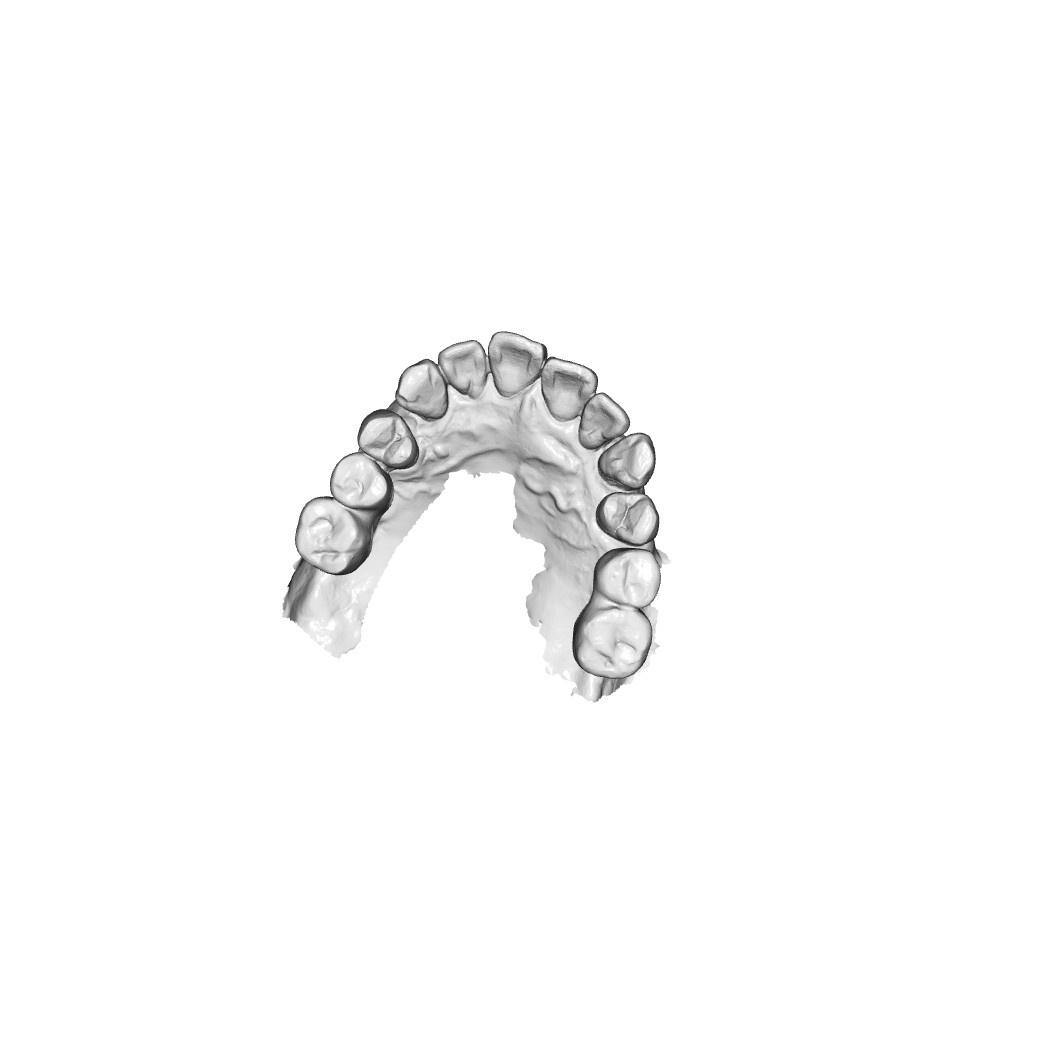canine: (595, 432, 659, 492), (392, 361, 454, 416)
incisor: (491, 330, 548, 397), (540, 359, 594, 419), (579, 394, 632, 450), (440, 341, 487, 400)
molar: (570, 602, 654, 678), (291, 496, 368, 577)
premolar: (589, 550, 661, 607), (328, 452, 393, 513), (358, 409, 419, 471), (597, 488, 662, 545)
